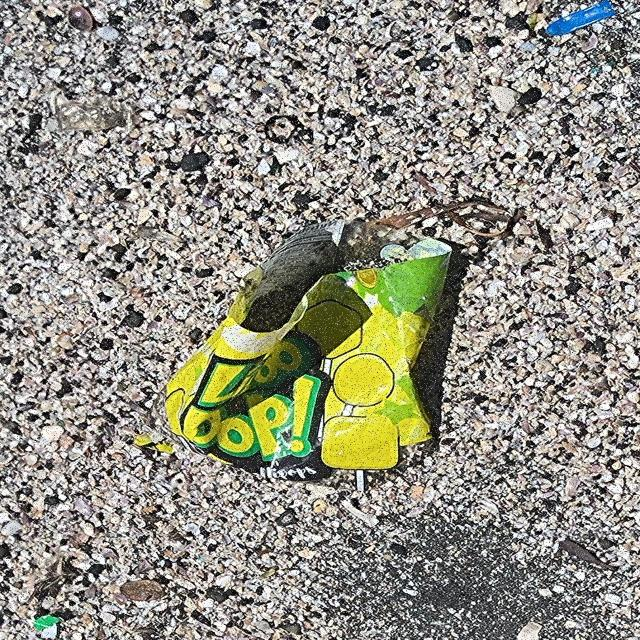plastic_waste: (164, 219, 455, 485)
